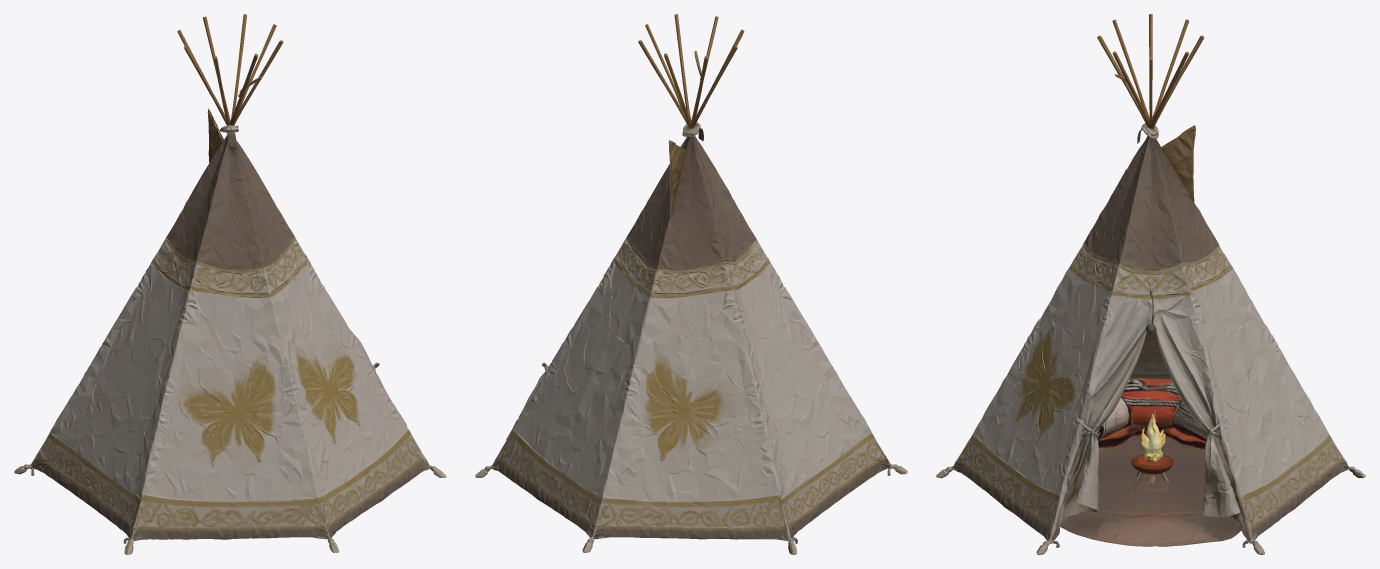
Rendered from tipi.yellowbutterfly-compressed.mobile.glb.
3 renders of one model, left to right at view 1: azimuth 30°, elevation 25°; view 2: azimuth 150°, elevation 25°; view 3: azimuth 270°, elevation 25°, orthographic.
Parts seen in each view (by area): view 1: tripo_node_c34ee706-acd6-4dc8-b86d-f25055d22140; view 2: tripo_node_c34ee706-acd6-4dc8-b86d-f25055d22140; view 3: tripo_node_c34ee706-acd6-4dc8-b86d-f25055d22140.
Boxes of the visible parts, bbox=[...] form: tripo_node_c34ee706-acd6-4dc8-b86d-f25055d22140: bbox=[14, 14, 446, 554]; tripo_node_c34ee706-acd6-4dc8-b86d-f25055d22140: bbox=[475, 14, 907, 554]; tripo_node_c34ee706-acd6-4dc8-b86d-f25055d22140: bbox=[936, 14, 1365, 554].
Size of the model in its own units: 0.7626 by 0.9999 by 0.8825.
Materials: 1 (1 with a texture image).
